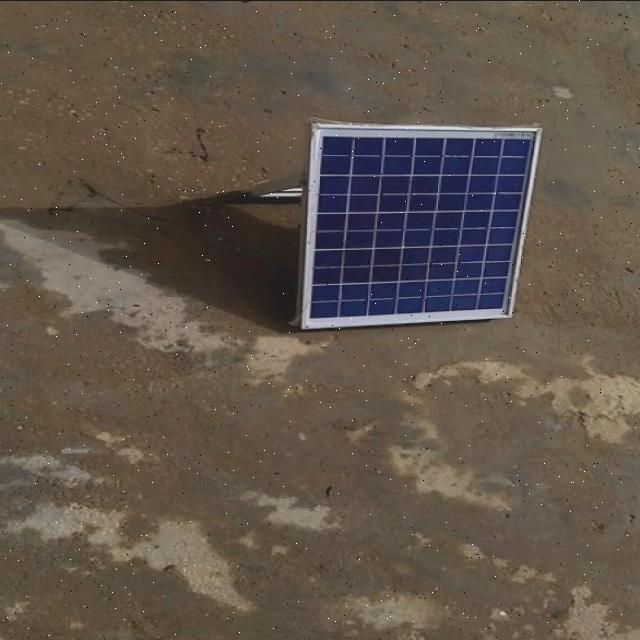Normal Solar Panel: (298, 125, 540, 328)
